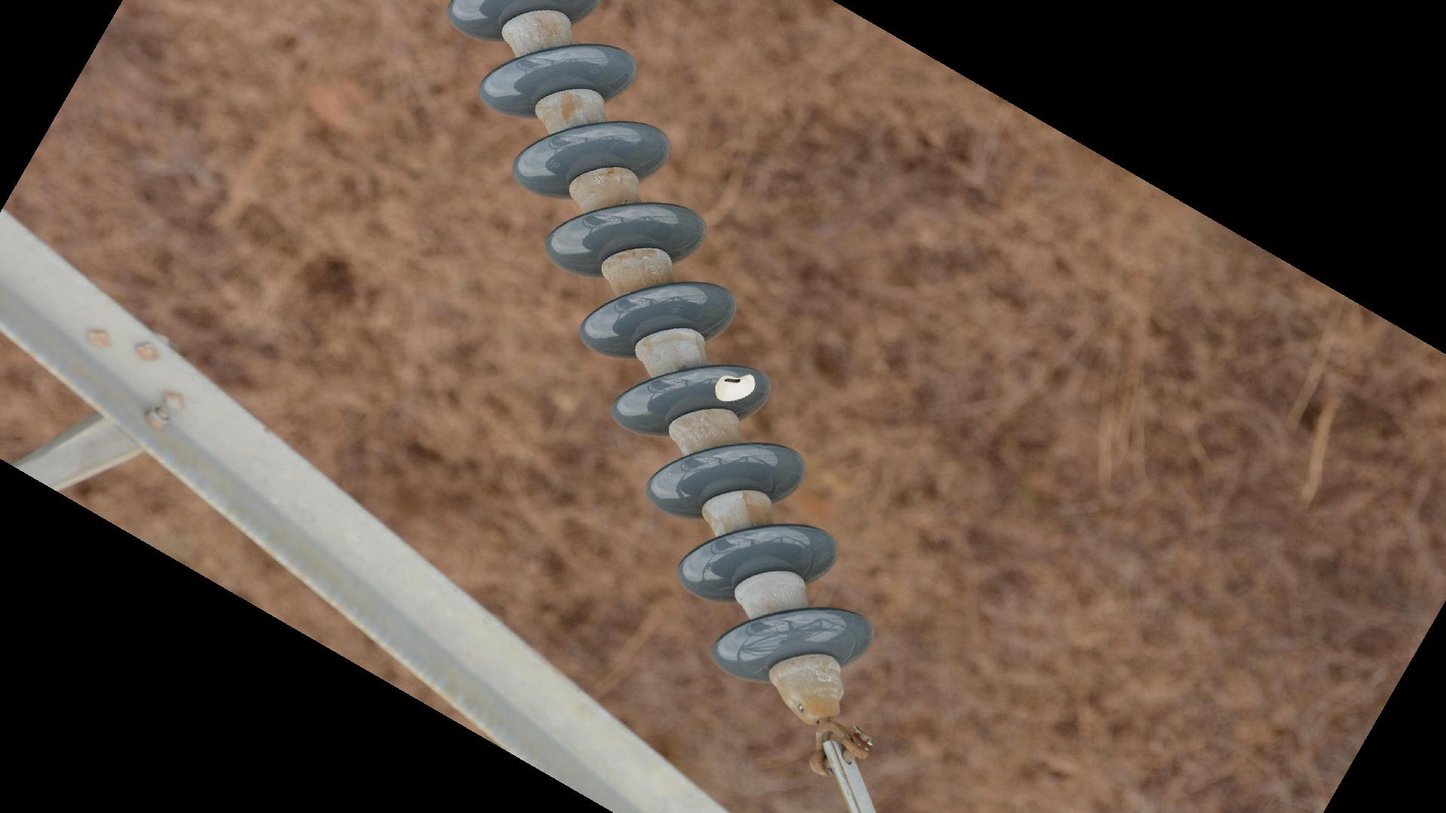insulator: (441, 1, 877, 681)
insulator_breakage: (704, 366, 764, 412)
